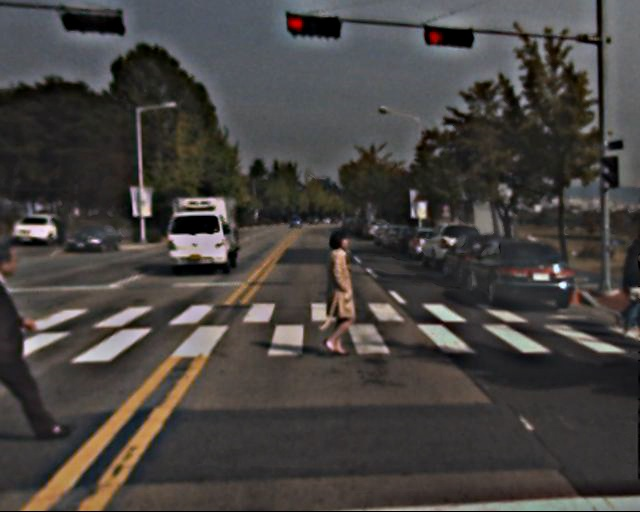person: (307, 231, 364, 359)
